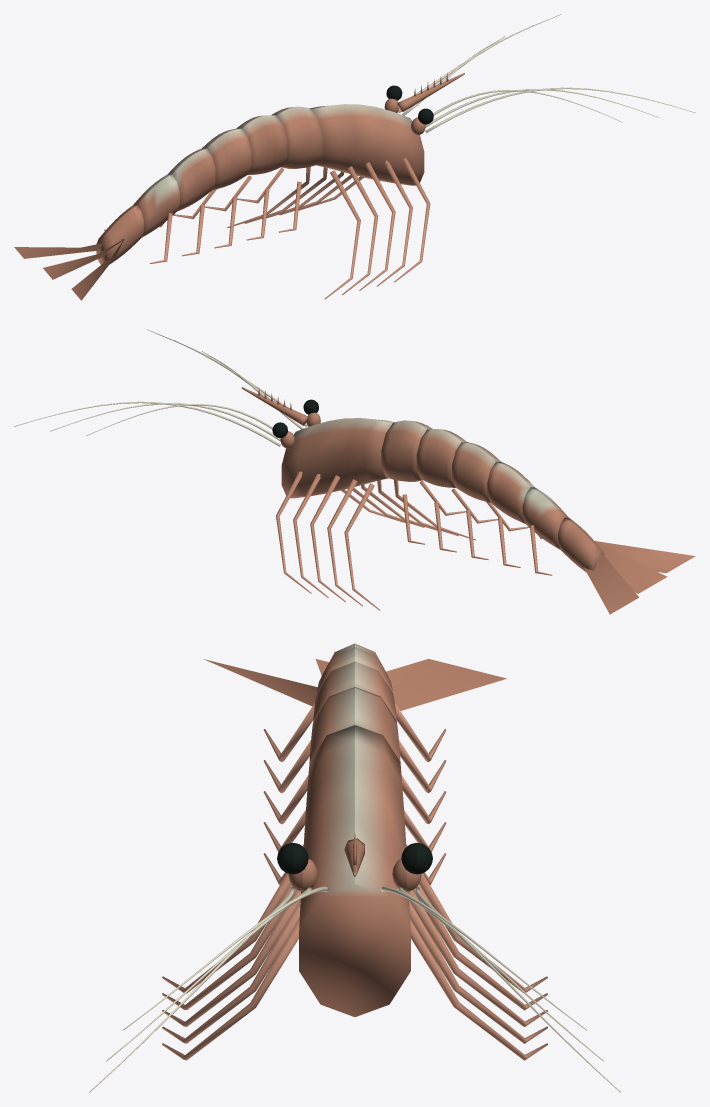
Rendered from cleanershrimp-mobile.glb.
The picture shows the model from 3 angles, top to bottom: view 1: azimuth 30°, elevation 25°; view 2: azimuth 150°, elevation 25°; view 3: azimuth 270°, elevation 25°; orthographic projection. The views are drawn at different scales.
Visible parts, largest first — view 1: carapace, pereiopod, antenna, pleopod, serrated-rostrum; view 2: carapace, pereiopod, antenna, pleopod, serrated-rostrum; view 3: carapace, pereiopod, pleopod, antenna, eye, eye-stalk.
Part boxes in pixels (<box>): carapace: <box>14,104,424,300</box>; pereiopod: <box>227,158,430,299</box>; antenna: <box>398,14,695,133</box>; pleopod: <box>104,167,301,263</box>; serrated-rostrum: <box>397,73,464,111</box>; carapace: <box>281,418,695,614</box>; pereiopod: <box>276,471,475,610</box>; antenna: <box>14,329,307,446</box>; pleopod: <box>402,480,552,575</box>; serrated-rostrum: <box>241,387,308,425</box>; carapace: <box>203,643,506,1016</box>; pereiopod: <box>162,844,547,1060</box>; pleopod: <box>263,703,446,884</box>; antenna: <box>89,886,620,1092</box>; eye: <box>277,843,432,874</box>; eye-stalk: <box>288,859,421,891</box>.
Size of the model in its own units: 1.18 by 0.2938 by 0.4707.
